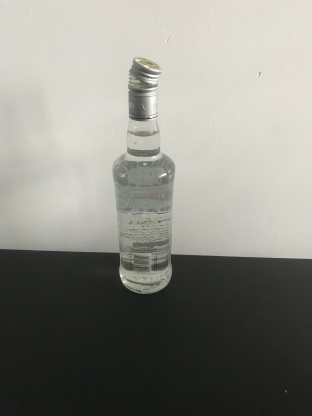nakretka: (126, 53, 163, 122)
